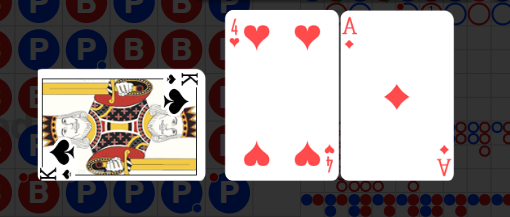4H: (228, 18, 241, 49)
AD: (343, 16, 360, 52)
